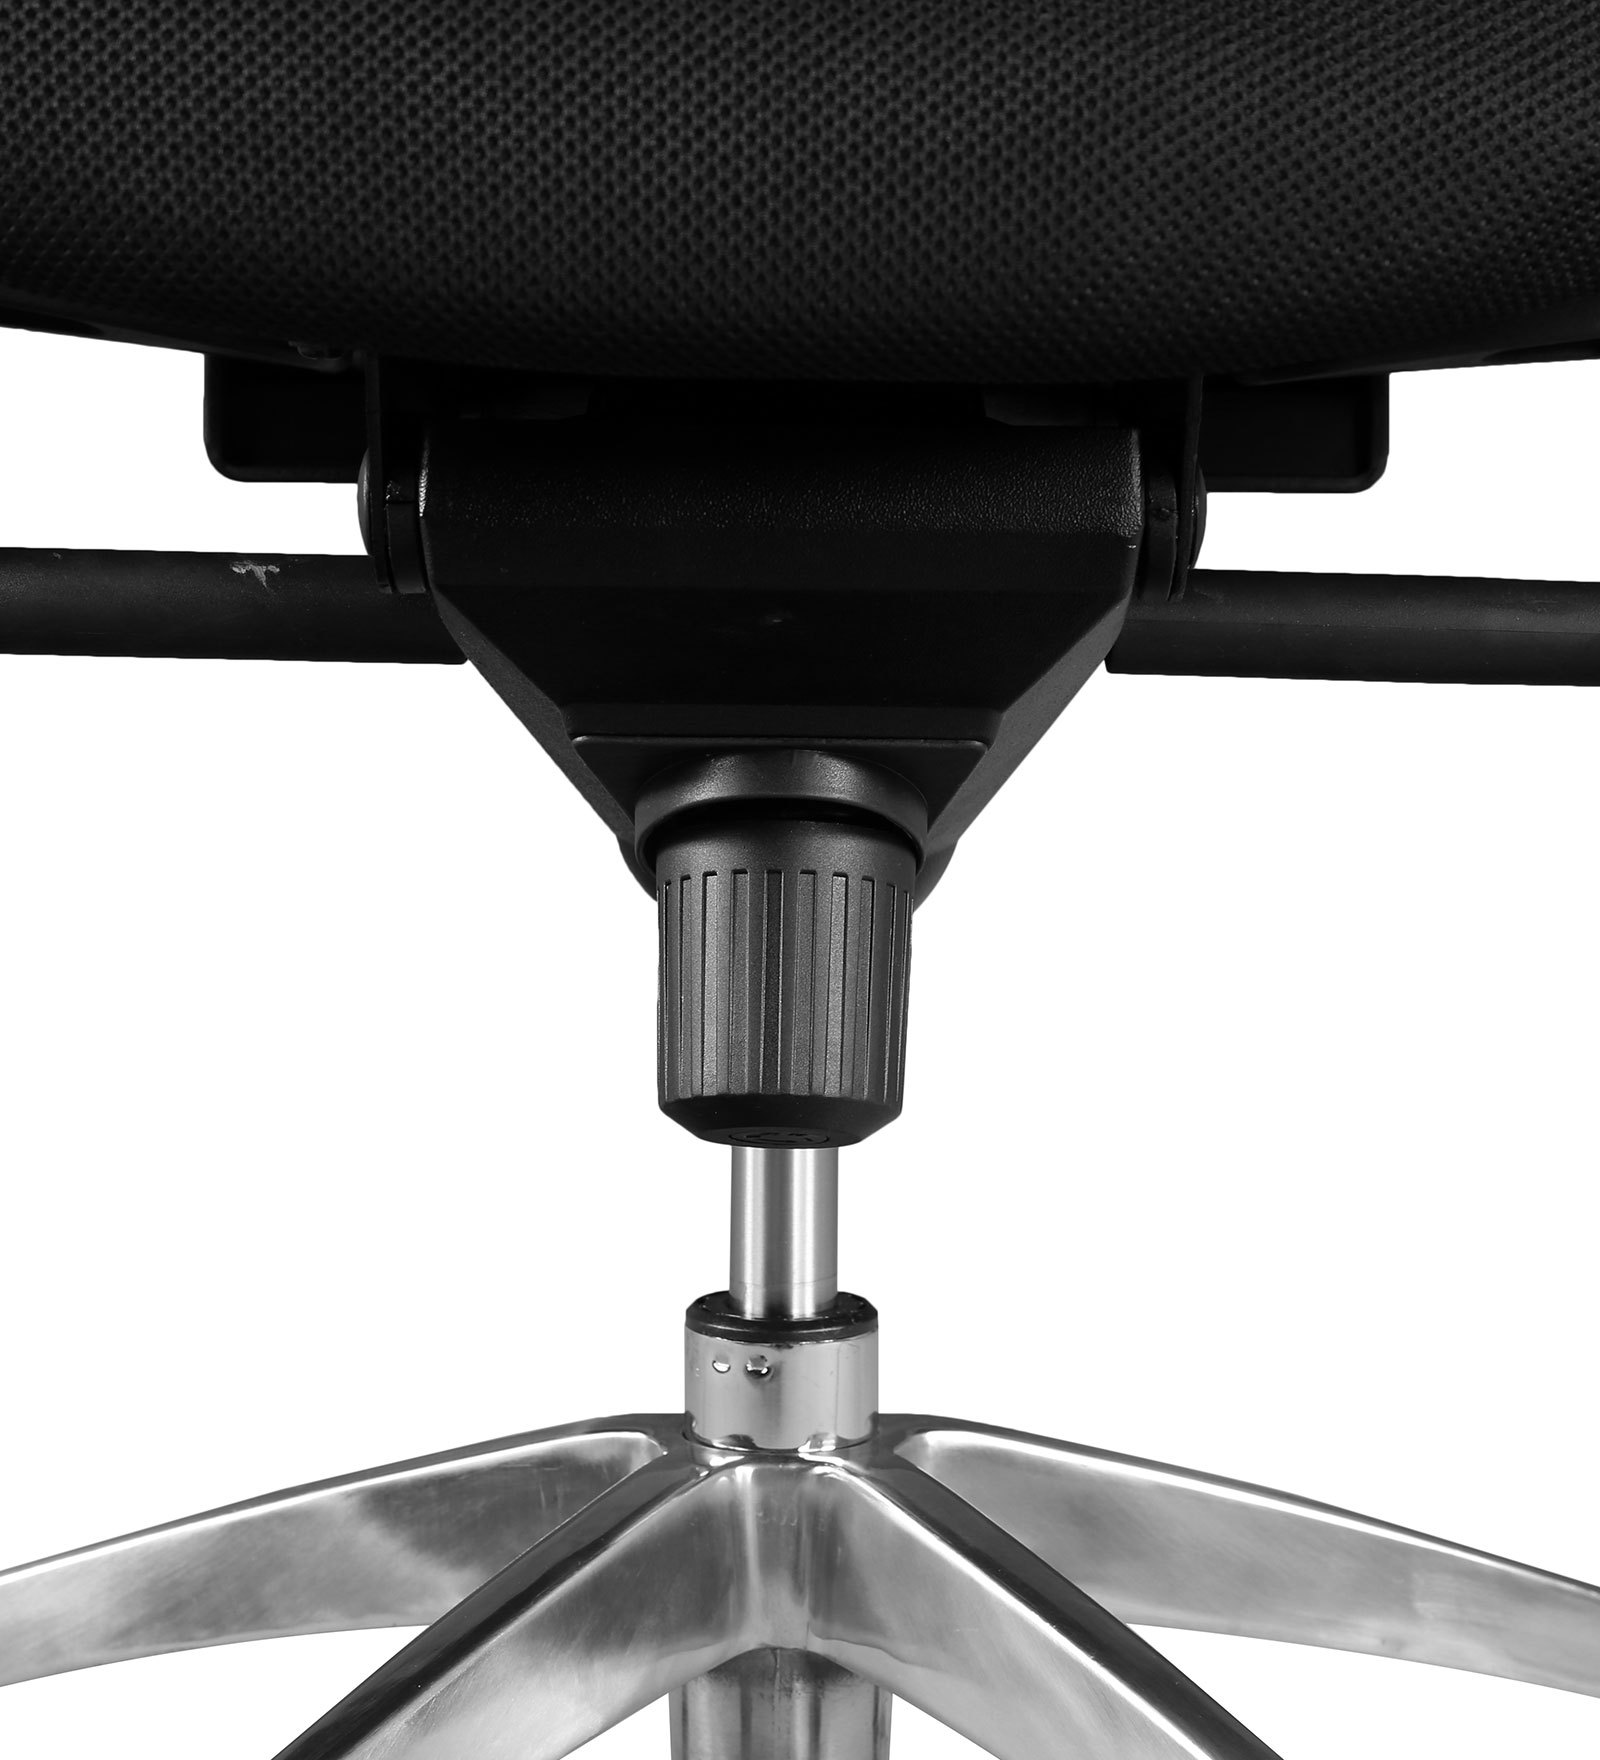Ergo High Back Ergonomic Chair in Black Colour by HomeTown: (6, 8, 1600, 1746)
